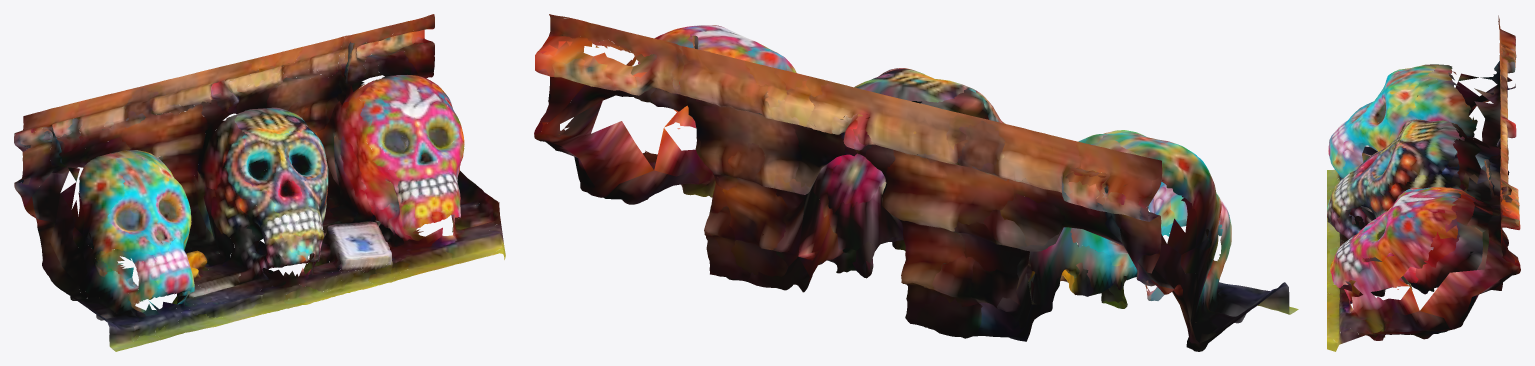
Rendered from calaveras-transformed.glb.
The picture shows the model from 3 angles, left to right: view 1: azimuth 30°, elevation 25°; view 2: azimuth 150°, elevation 25°; view 3: azimuth 270°, elevation 25°; orthographic projection. The views are drawn at different scales.
Visible parts, largest first — view 1: Object_3, Object_2, Object_4; view 2: Object_3, Object_2, Object_4; view 3: Object_3, Object_2, Object_4.
Part boxes in pixels (left/top/right/bottom): Object_3: left=14, top=16, right=502, bottom=350; Object_2: left=14, top=14, right=505, bottom=351; Object_4: left=276, top=36, right=391, bottom=282; Object_3: left=534, top=16, right=1295, bottom=351; Object_2: left=534, top=14, right=1298, bottom=347; Object_4: left=679, top=46, right=773, bottom=119; Object_3: left=1327, top=15, right=1520, bottom=342; Object_2: left=1327, top=36, right=1520, bottom=351; Object_4: left=1500, top=143, right=1508, bottom=188.
Size of the model in its own units: 0.6482 by 0.2578 by 0.2843.
Materials: 1 (1 with a texture image).
